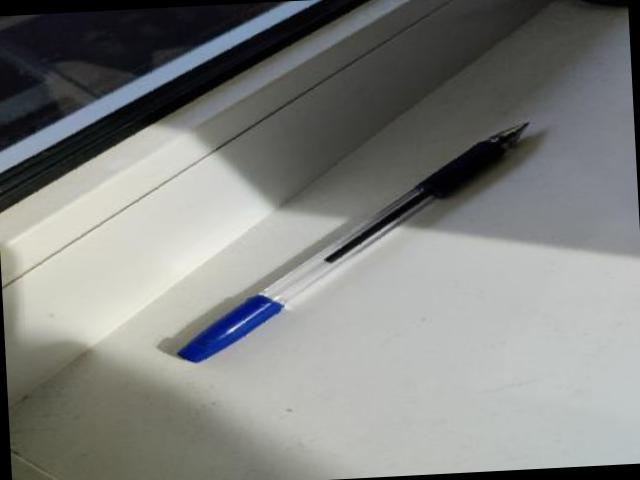PEN: (166, 101, 545, 381)
